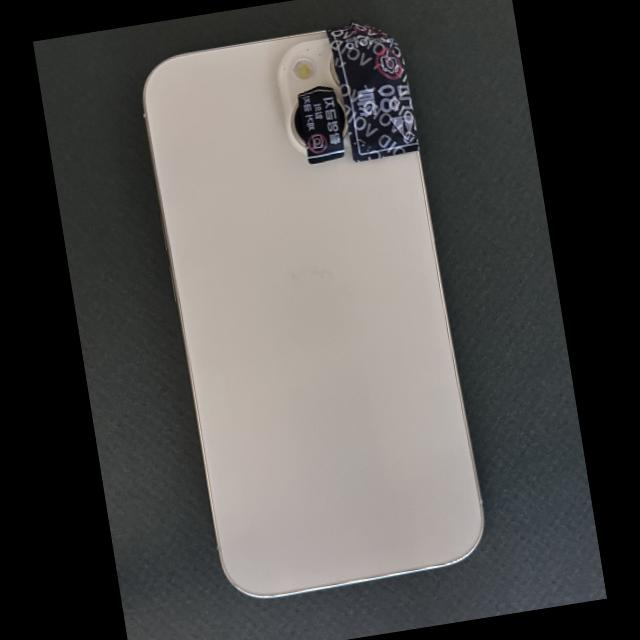lens: (289, 104, 306, 148), (329, 55, 338, 85)
phone: (142, 24, 485, 599)
sticker: (325, 21, 420, 162), (297, 86, 345, 164)
